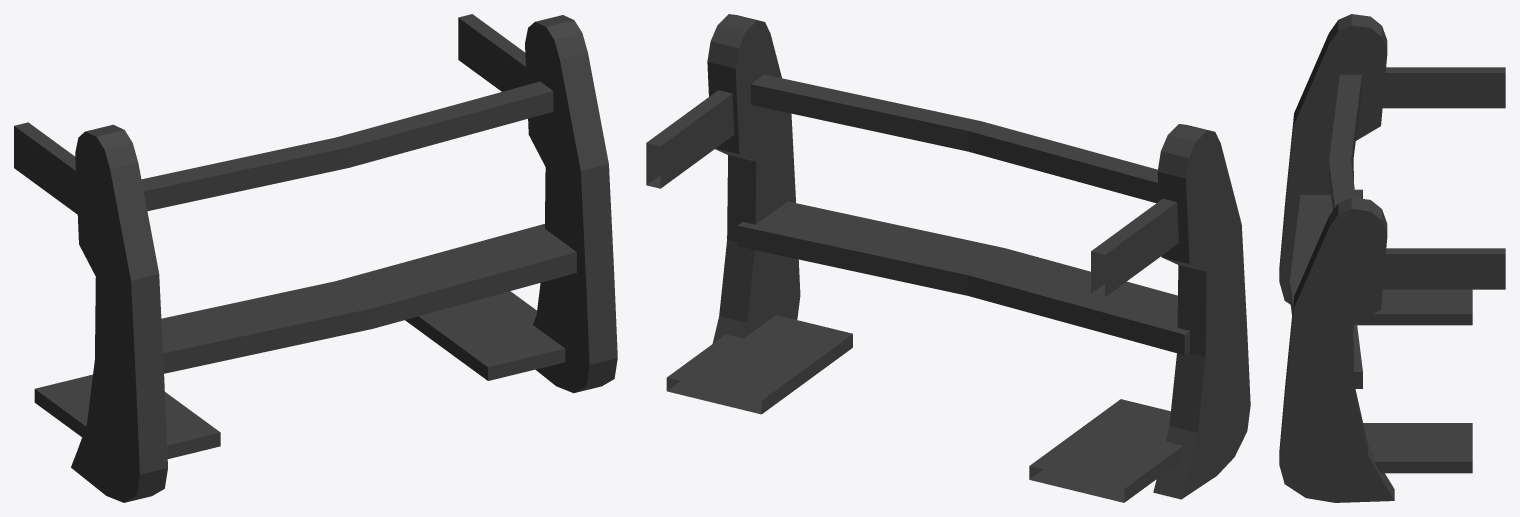
The model's file is PoliceFrontBar.fbx.
The picture shows the model from 3 angles, left to right: view 1: azimuth 30°, elevation 25°; view 2: azimuth 150°, elevation 25°; view 3: azimuth 270°, elevation 25°; orthographic projection. The views are drawn at different scales.
Parts seen in each view (by area): view 1: FrontBumper; view 2: FrontBumper; view 3: FrontBumper.
Boxes of the visible parts, x1=… form: FrontBumper: x1=14, y1=14, x2=617, y2=502; FrontBumper: x1=646, y1=14, x2=1250, y2=502; FrontBumper: x1=1279, y1=14, x2=1505, y2=502.
Size of the model in its own units: 89.17 by 62.75 by 43.81.
